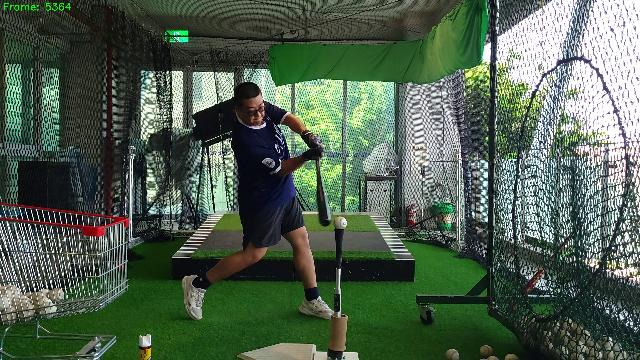ball: (334, 217, 348, 229)
bat: (315, 156, 333, 226)
